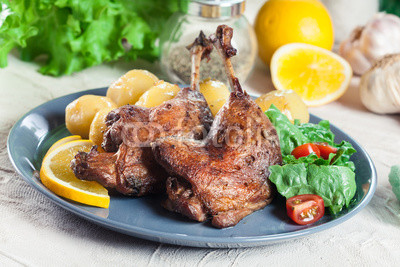boiled potatoes: (107, 65, 177, 105)
chopped lettuce: (4, 2, 181, 64), (278, 162, 354, 208)
